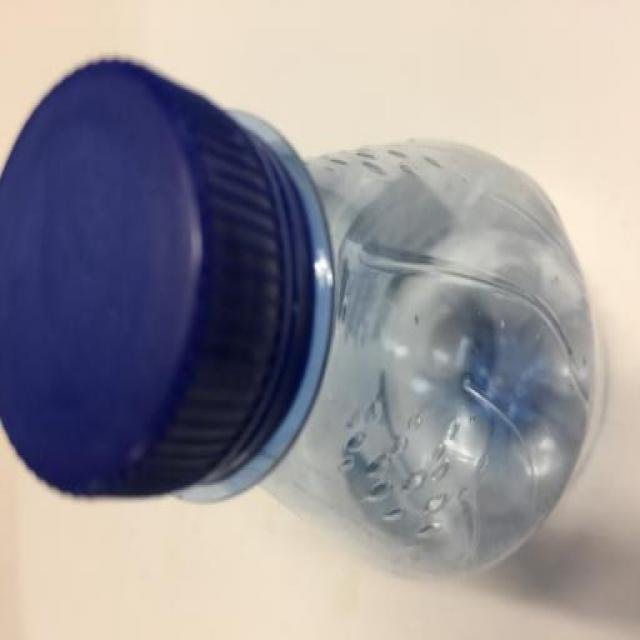plastic_bottle: (1, 54, 613, 589)
